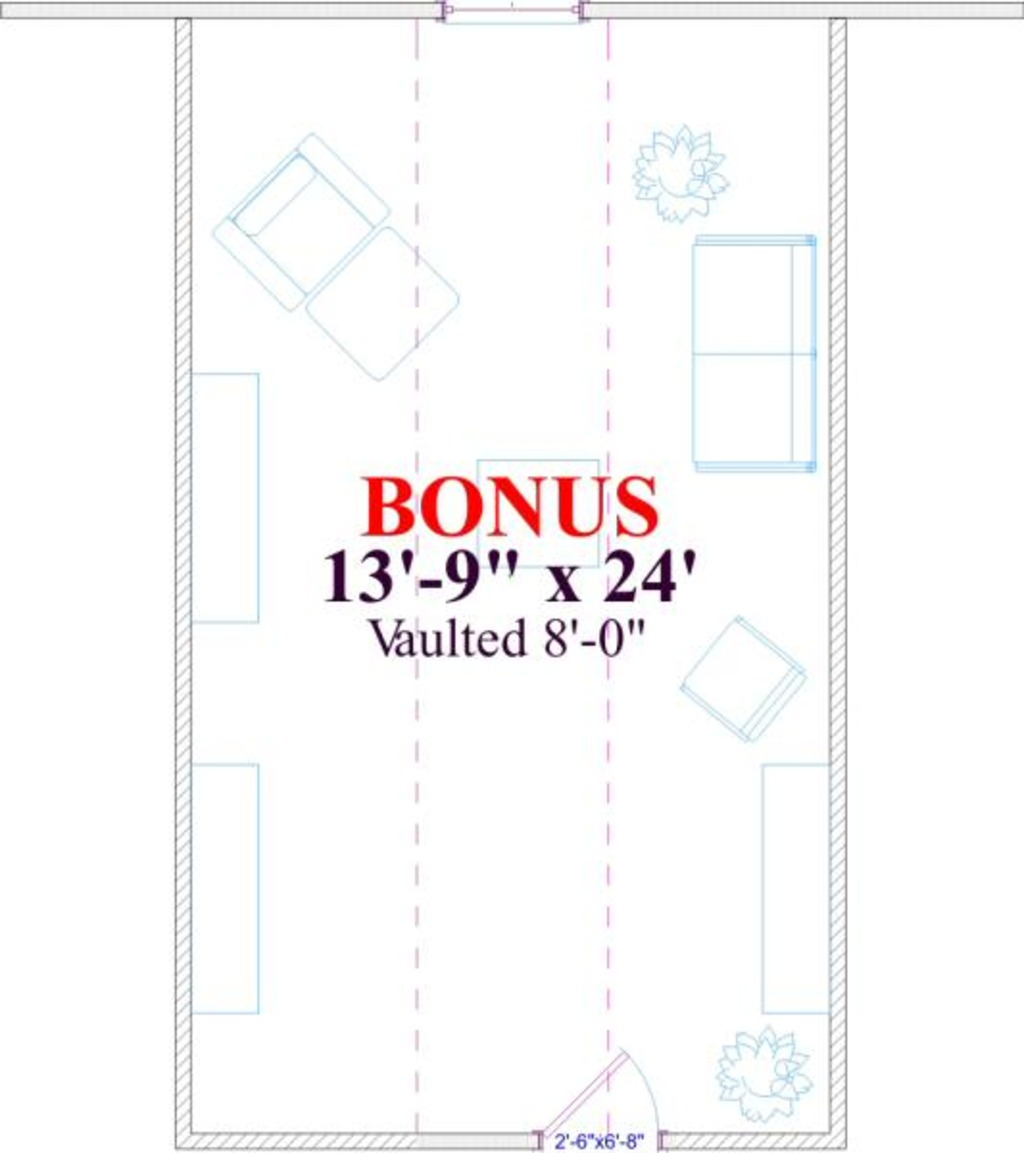door: (500, 1041, 677, 1148)
large_sofa: (684, 225, 817, 490)
small_sofa: (209, 132, 403, 313), (661, 618, 816, 751)
window: (442, 1, 584, 30)
